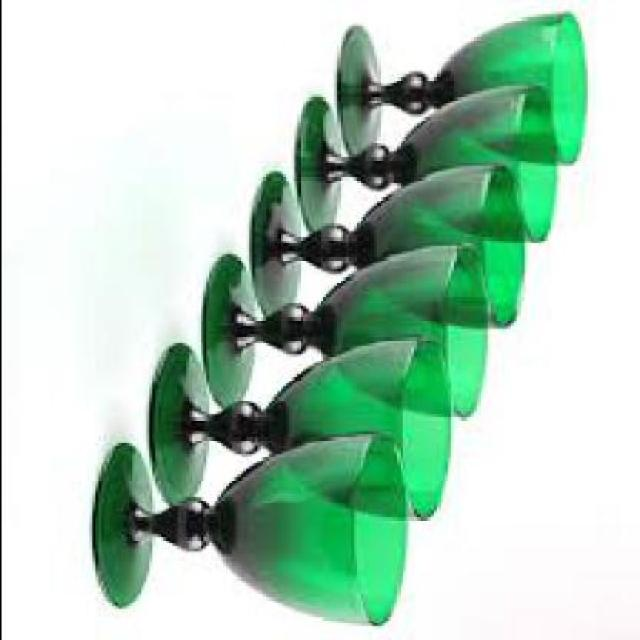GLASS: (94, 438, 415, 628), (154, 343, 455, 526), (203, 243, 492, 423), (250, 165, 527, 328), (296, 88, 558, 245), (340, 18, 588, 165)
